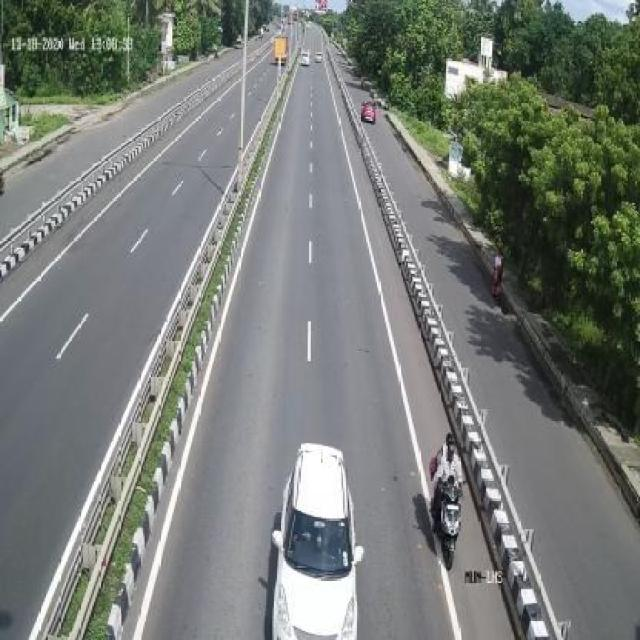car: (262, 438, 366, 637), (358, 96, 378, 124), (297, 48, 312, 66)
